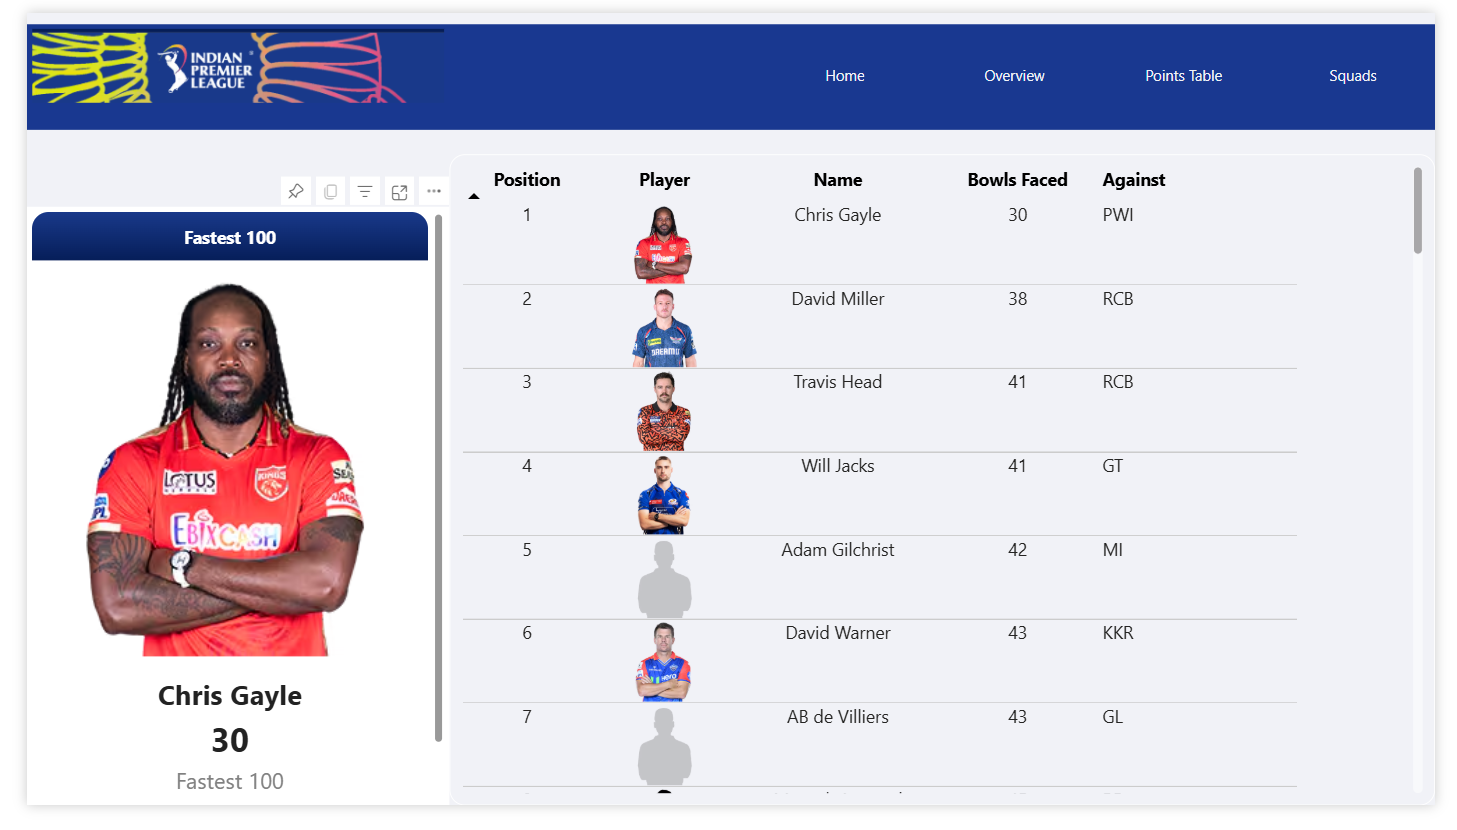

The page's visual inventory and layout, read from the dashboard file:
{"tool":"powerbi","page":{"name":"Fastest 100","canvas":[1280,720],"ordinal":8},"visuals":[{"type":"shape","box":[0,10,1280,96],"z":0},{"type":"pageNavigator","box":[672,32,608,48],"z":1000},{"type":"htmlContent443BE3AD55E043BF878BED274D3A6855","fields":{"content":["Records.Top_Players"]},"box":[0,176,384,544],"z":2000},{"type":"image","box":[0,0,384,96],"z":3000},{"type":"tableEx","fields":{"Values":["Fast100.Position","Fast100.IMG","Fast100.Name","Fast100.Bowl","Fast100.Against"]},"box":[384,128,896,592],"z":4000}]}

Visuals, with their boxes on the page's 1280x720 design canvas (x1, y1, x2, y2). These are canvas units, not pixel positions in the 1457x830 screenshot, which may show the page scaled, cropped or inside an application window:
shape: (0, 10, 1280, 106)
pageNavigator: (672, 32, 1280, 80)
htmlContent443BE3AD55E043BF878BED274D3A6855 - Records.Top_Players: (0, 176, 384, 720)
image: (0, 0, 384, 96)
tableEx - Fast100.Position x Fast100.IMG: (384, 128, 1280, 720)
